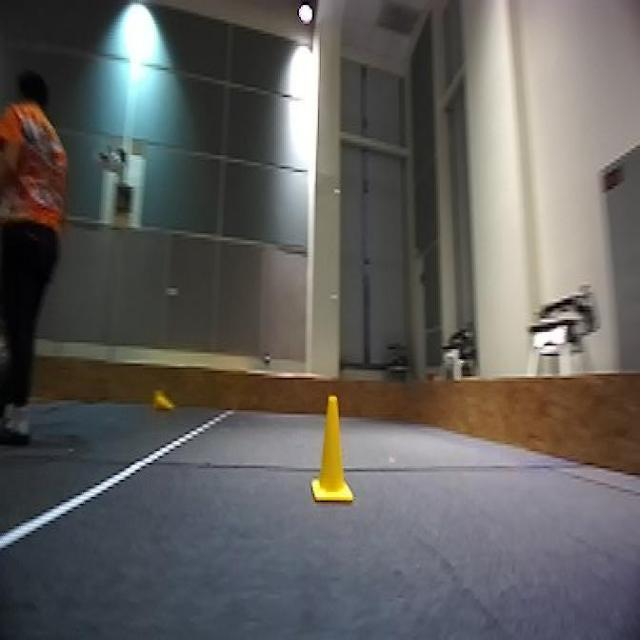frc_cone: (312, 393, 354, 511), (147, 385, 180, 415)
